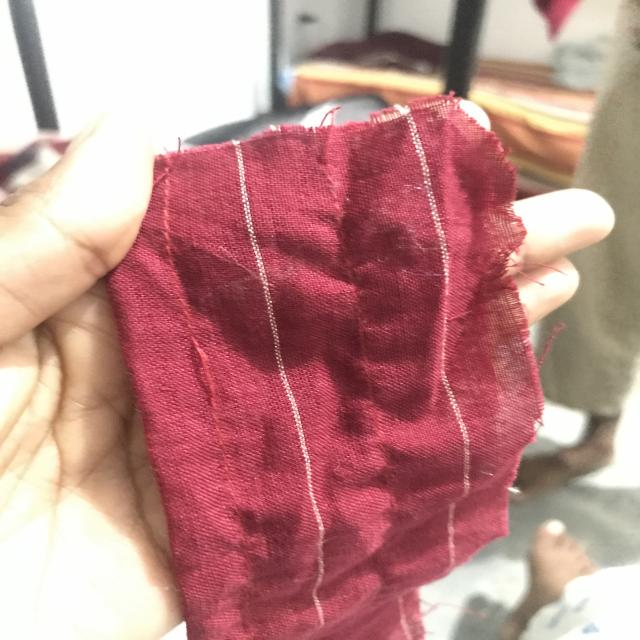skip: (185, 331, 243, 418)
